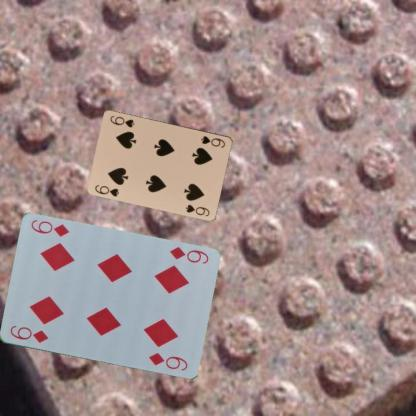6d: (166, 244, 210, 266), (7, 323, 50, 344)
6s: (92, 182, 121, 198), (199, 133, 226, 149)
